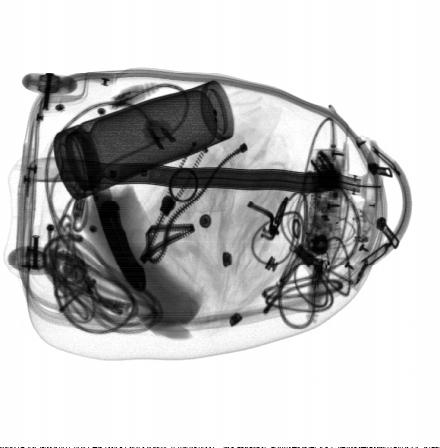Knife: (78, 129, 147, 293)
